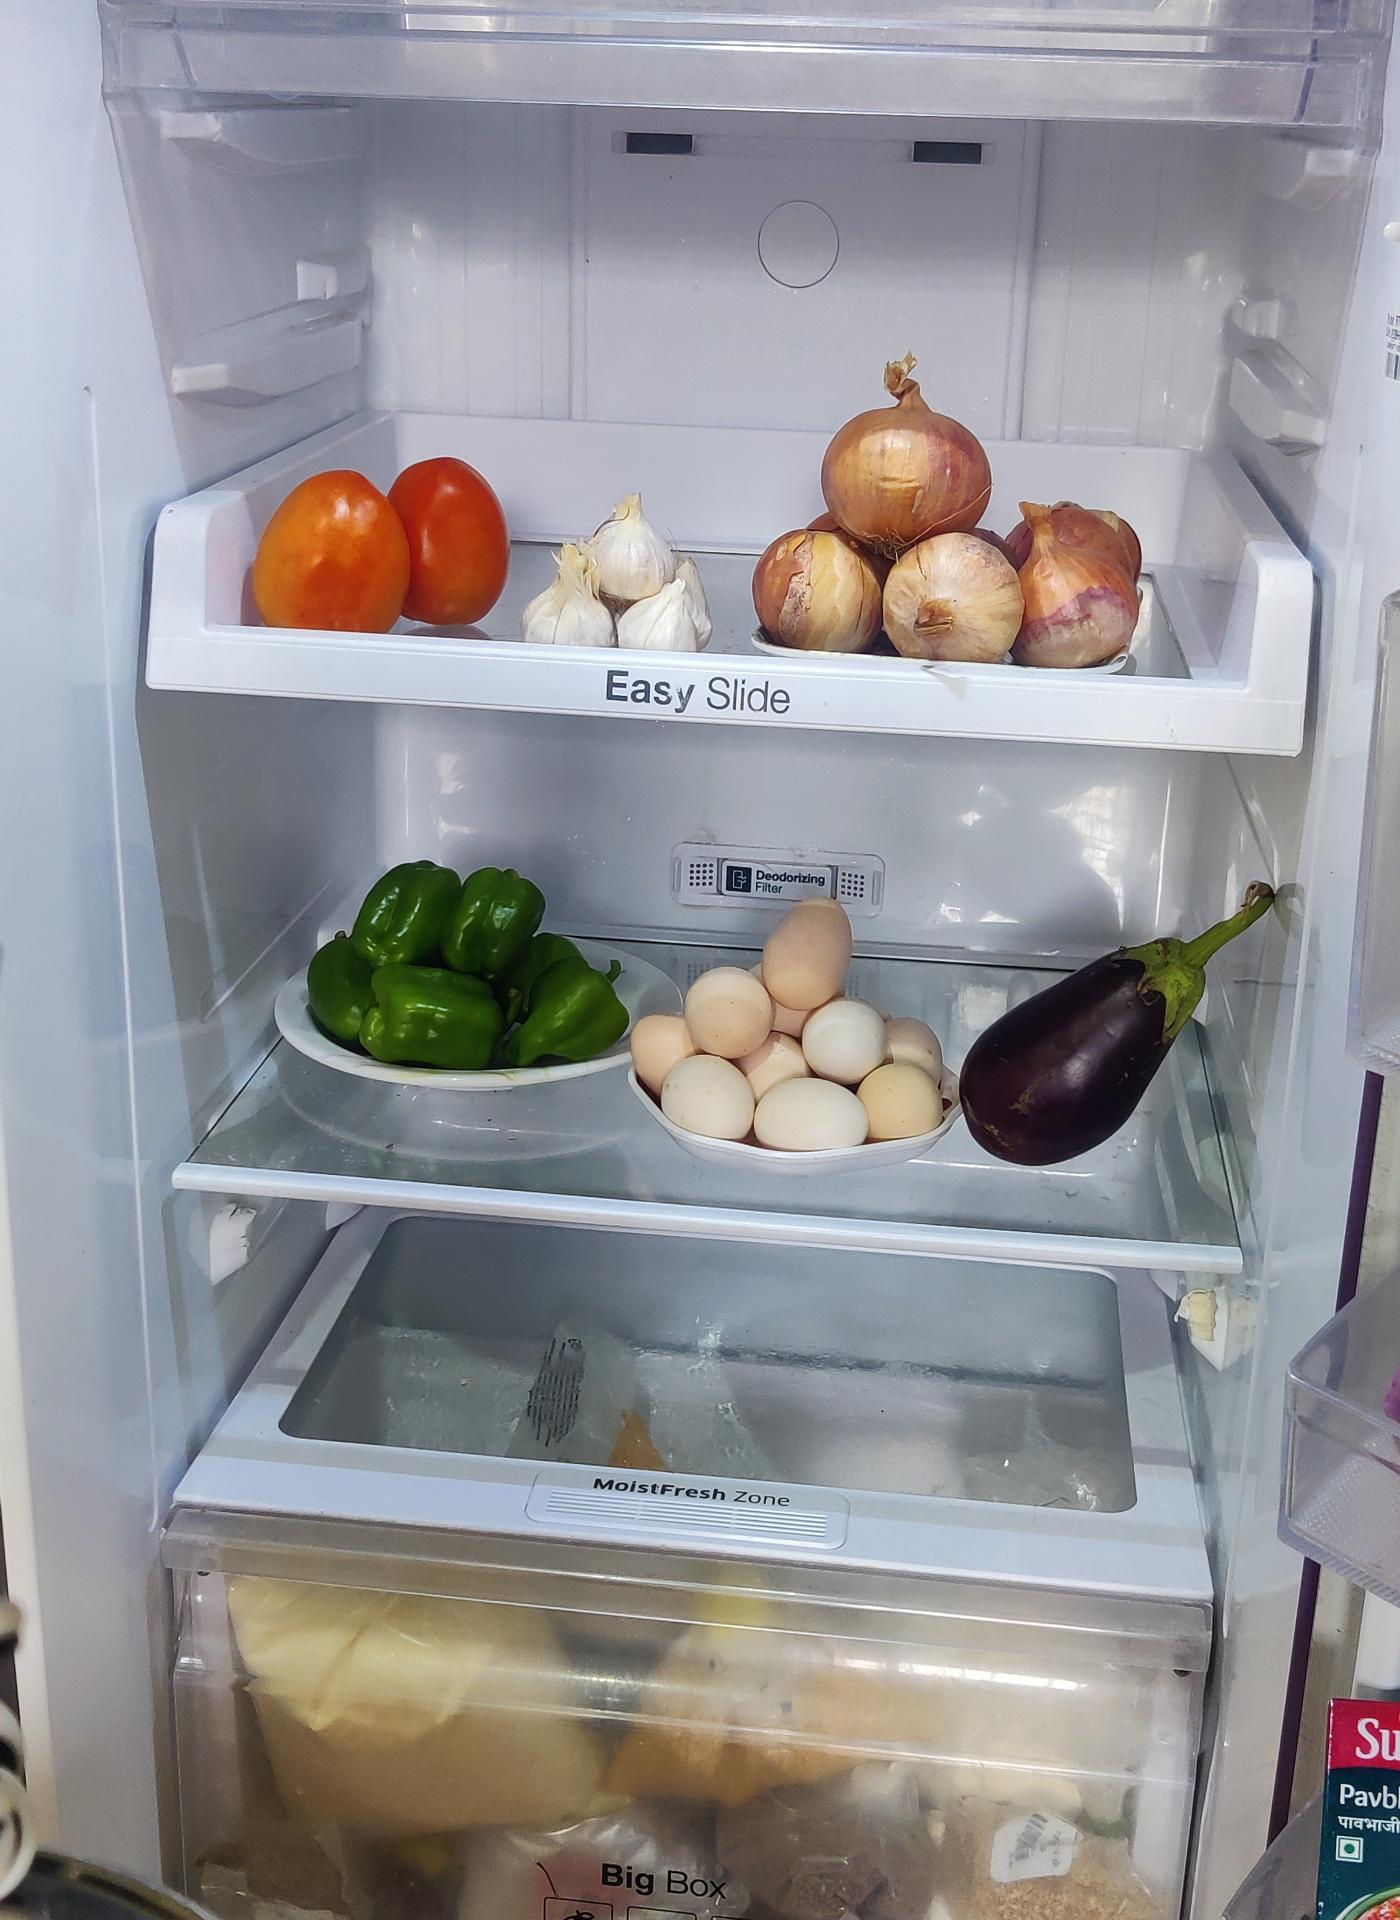bread: (1, 1455, 64, 1890)
brinjal: (968, 912, 1205, 1175)
capsicum: (307, 863, 634, 1079)
egg: (644, 920, 957, 1169)
garlic: (528, 498, 714, 665)
onion: (747, 408, 1145, 675)
tomato: (252, 459, 520, 642)
